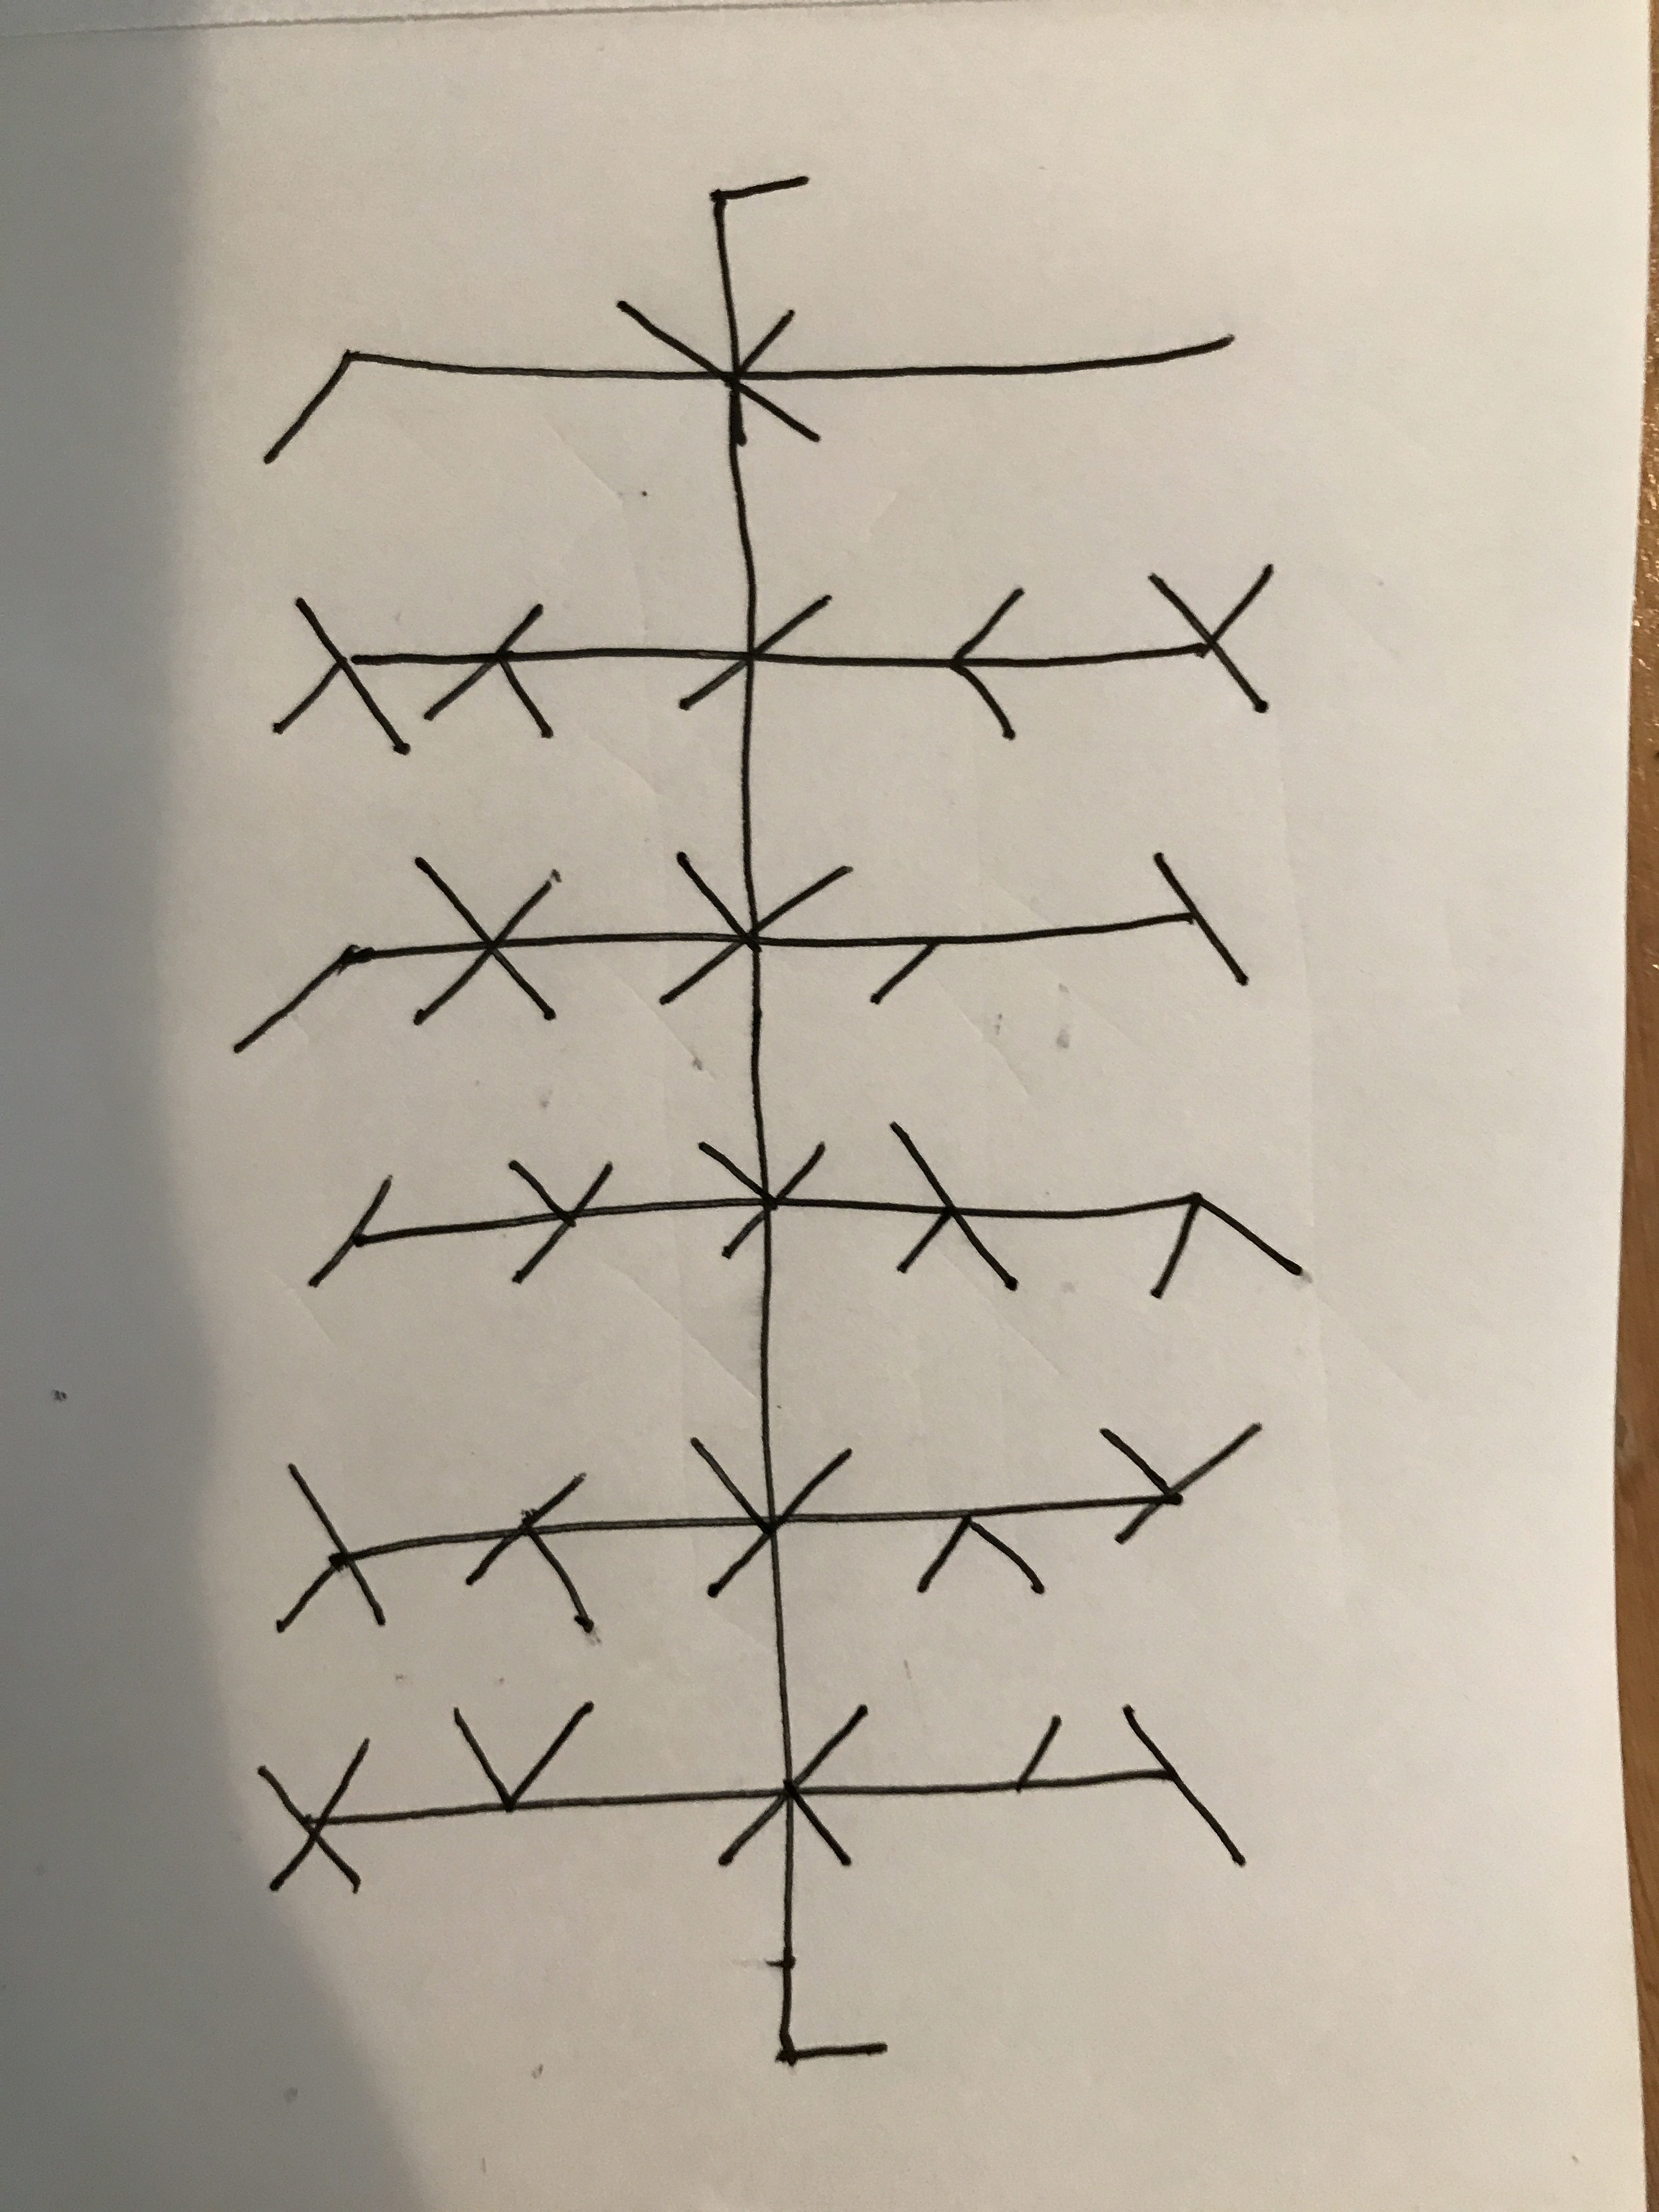Bar: (272, 1420, 1262, 1639), (234, 850, 1253, 1059), (254, 1703, 1243, 1898), (268, 566, 1274, 758), (303, 1118, 1310, 1301), (265, 300, 1237, 467)
Barcode: (232, 169, 1307, 2069)
End: (775, 1865, 885, 2071)
Start: (709, 171, 809, 303)
